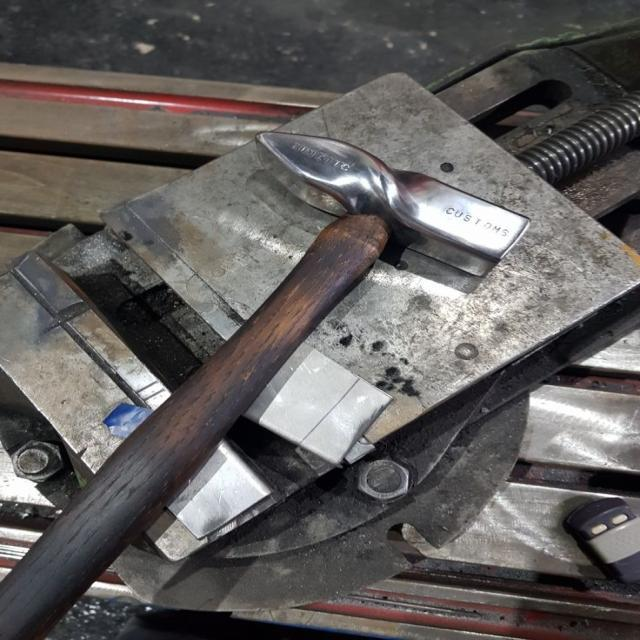hammer: (0, 122, 540, 640)
